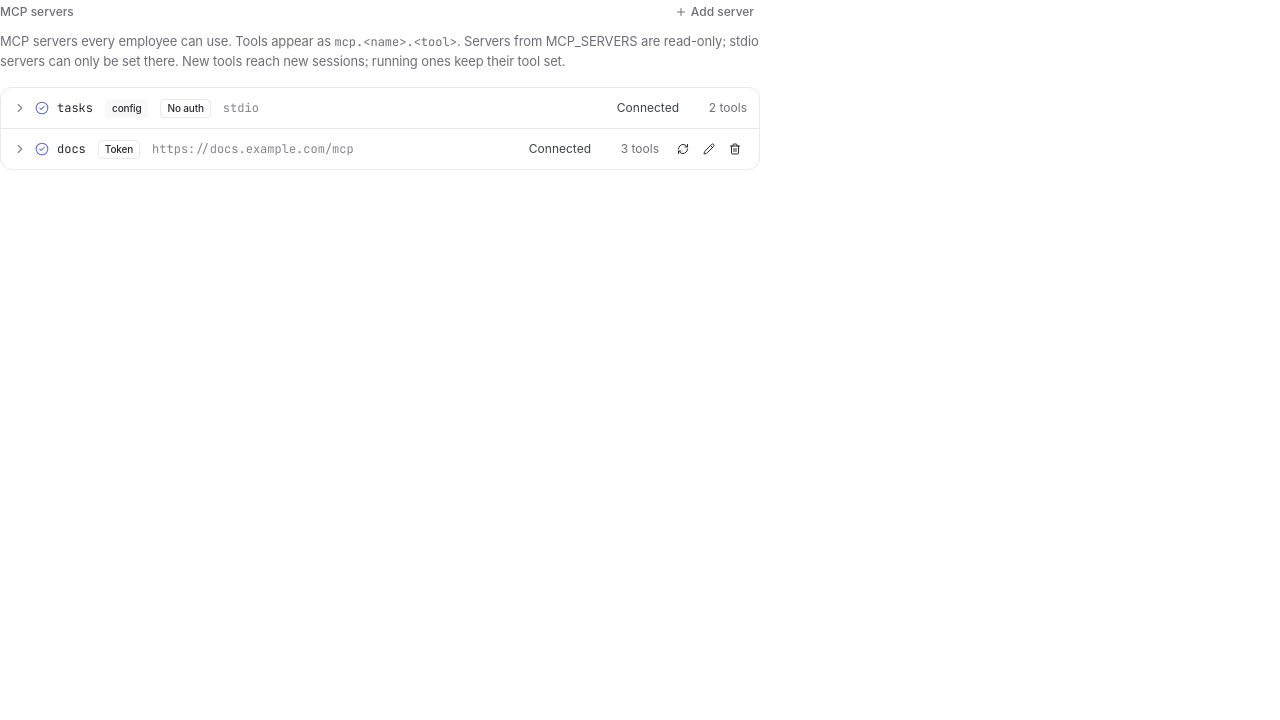
Test: MCP servers › deletes after a confirmation
Click the button named "Delete docs". click: (735, 149)
box: [723,137,747,161]
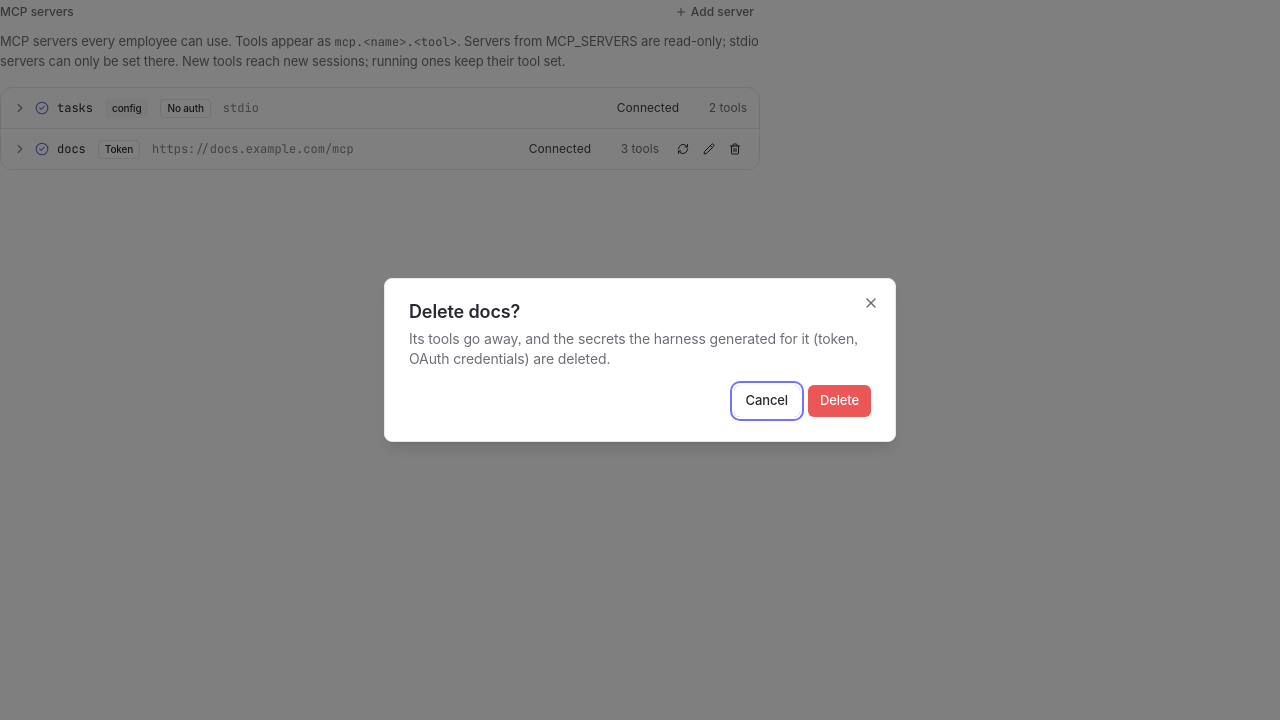
Result: the heading "Delete docs?" is shown at [409,301,520,322]
Click the button "Delete". click: (839, 401)
box: [808,385,871,417]
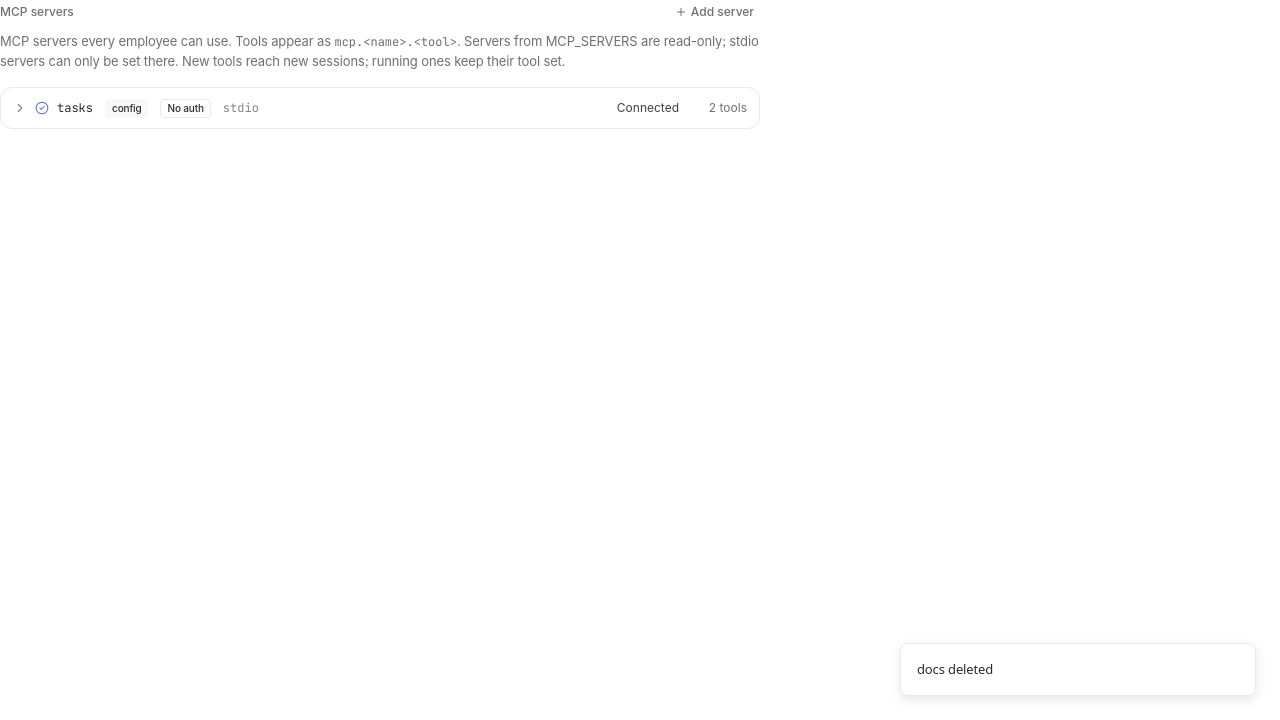
Result: the element with test id "mcp-server-docs" is gone
